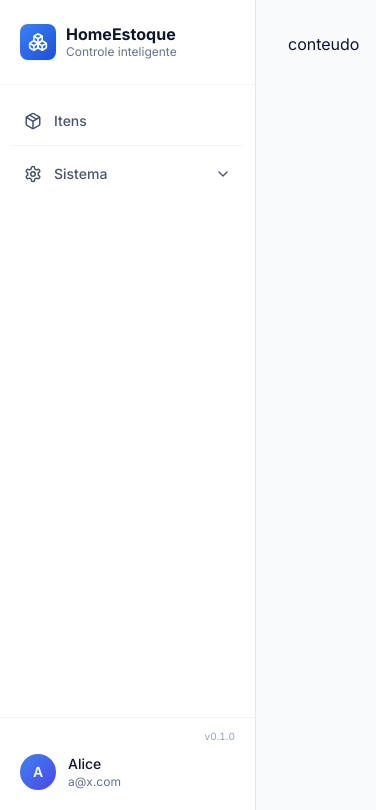
Layout — menu filtrado por permissão › Exportar CSV visível dentro de Sistema com a permissão
Expected: the text "Alice" is shown, [68,755,101,772]
// Está dentro do menu Sistema (colapsado por default) — expandir.
Click the button "Sistema" at (128, 174), box [12,154,243,194]
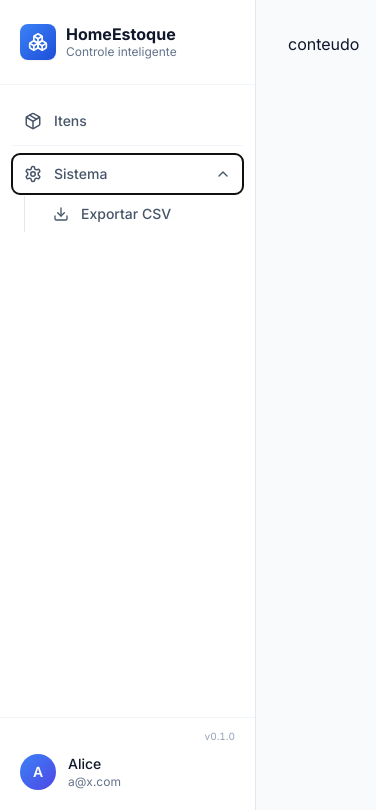
Result: the link "Exportar CSV" is shown at [53,205,171,222]
